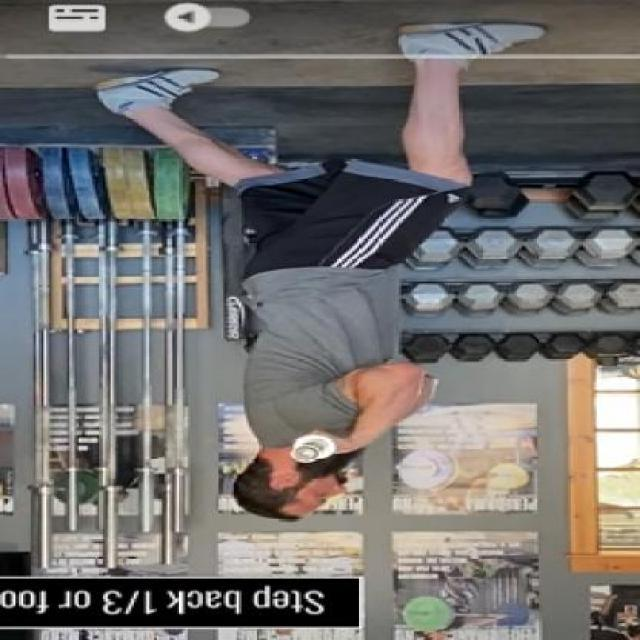Barbell: (288, 443, 324, 462)
